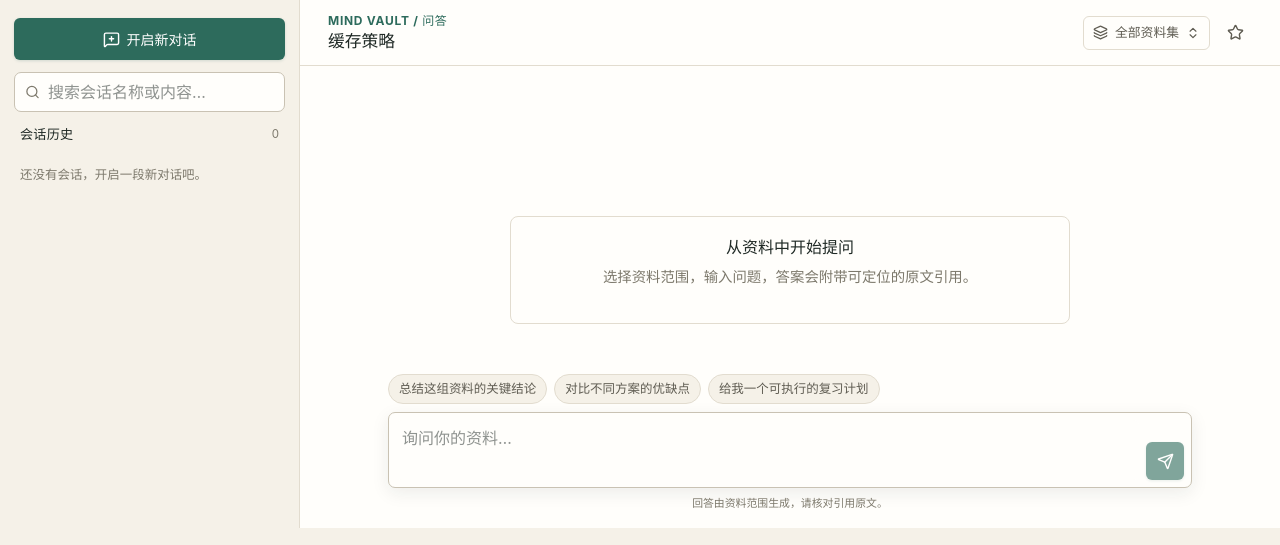
it: ChatPage › persists the session favorite and flips the star button
Expected: the heading "缓存策略" is shown, [328,32,395,51]
Click the button named "收藏会话" at (1235, 32), box [1218,16,1252,50]
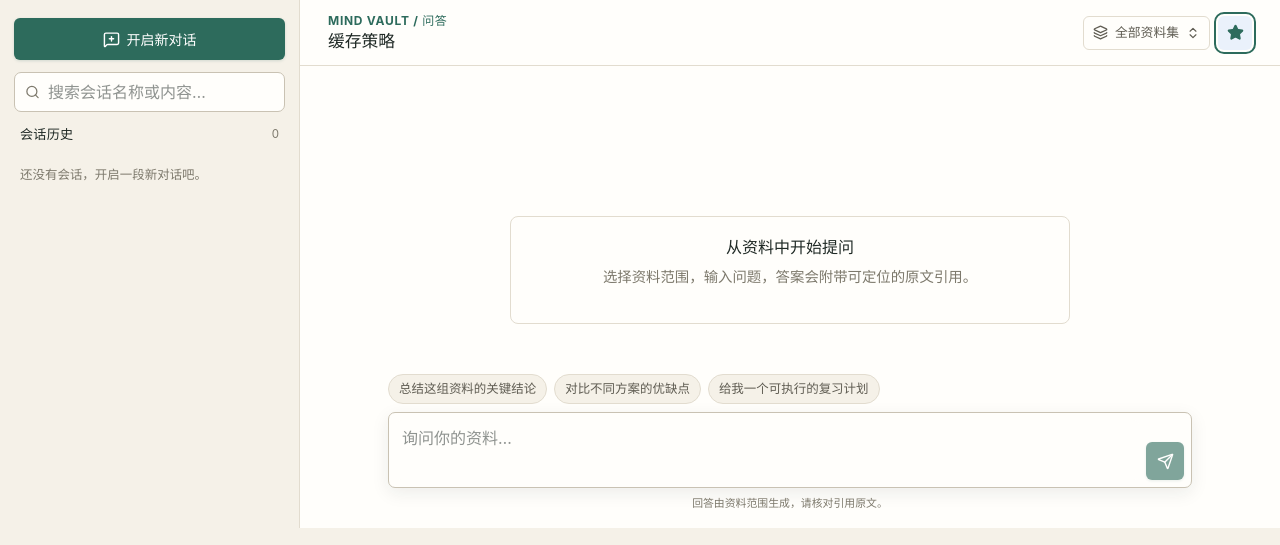
Expected: the button named "取消收藏" is shown, [1218,16,1252,50]
